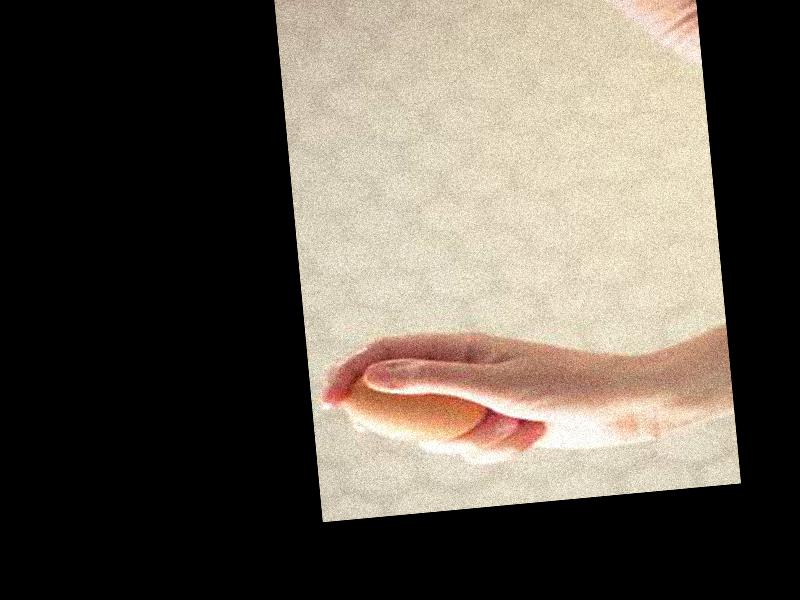Eggs: (341, 357, 488, 452)
